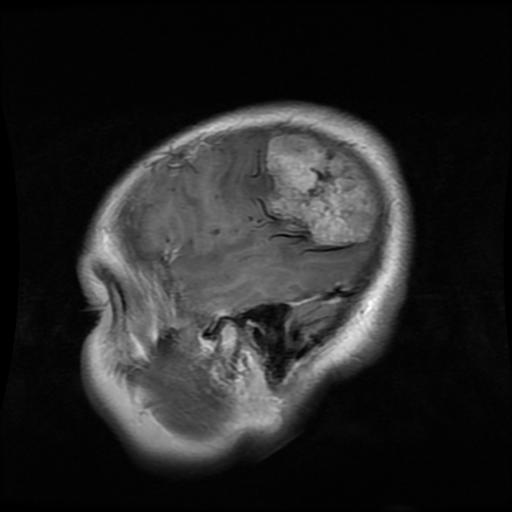Menigiomia_tumour: (266, 134, 378, 246)
